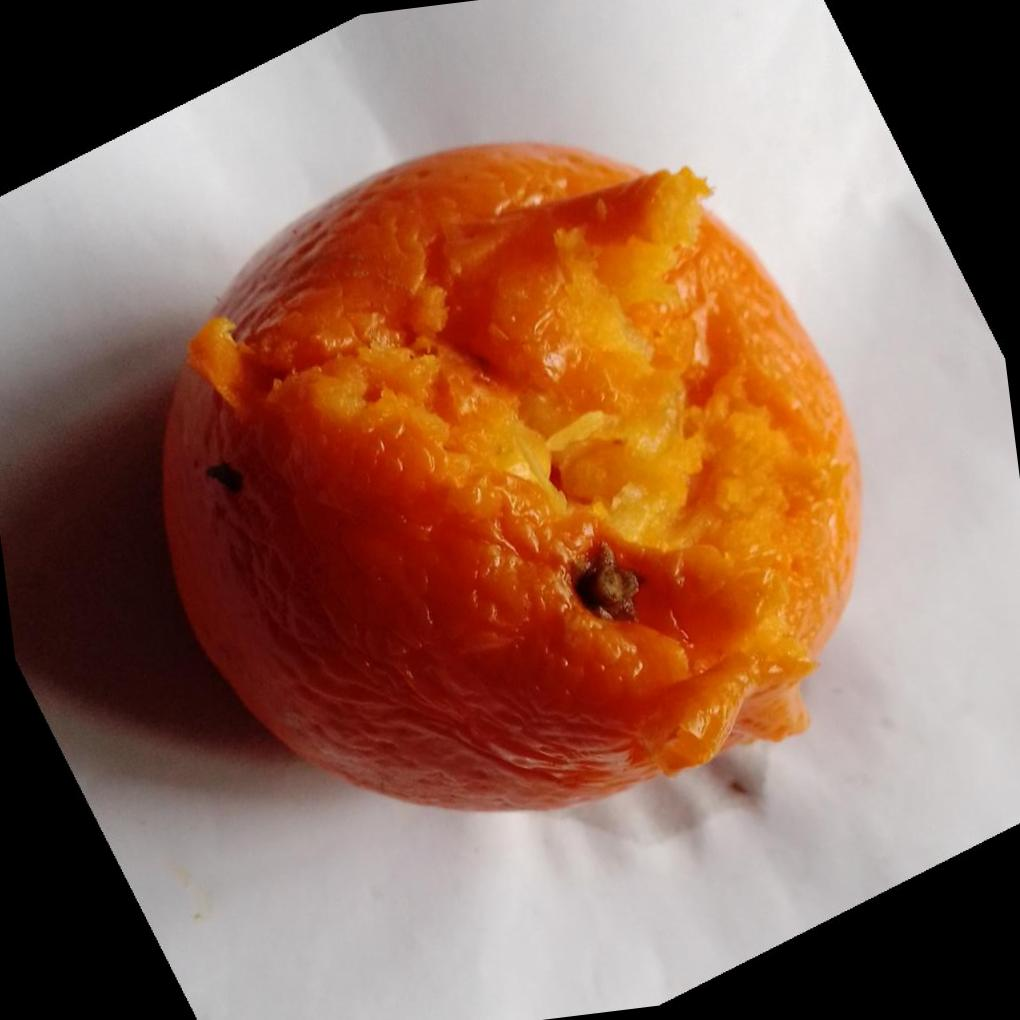FreshOrange: (154, 139, 861, 815)
